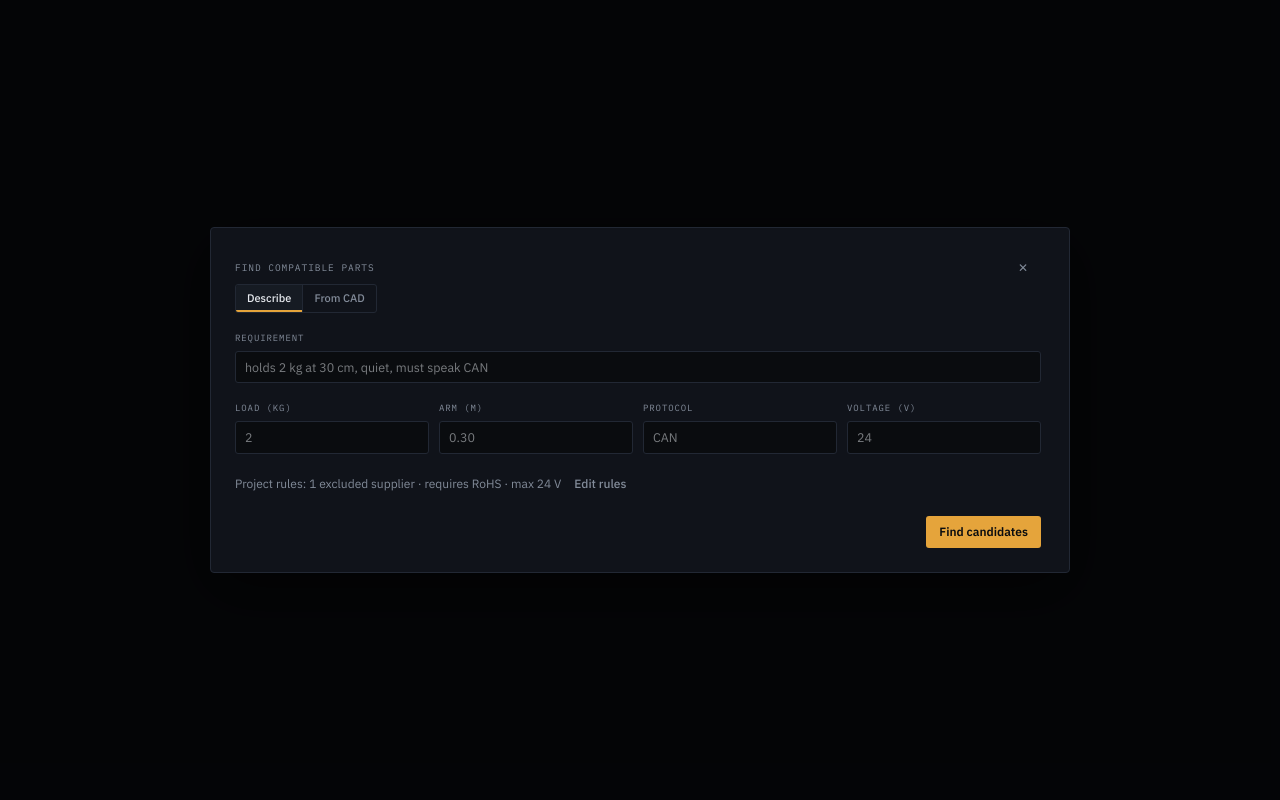
SourcingModal — requirement › refuses an empty requirement with a message and never submits
This screenshot has width=1280, height=800.
Click the button "Find candidates": (984,532) left=926, top=516, right=1041, bottom=548
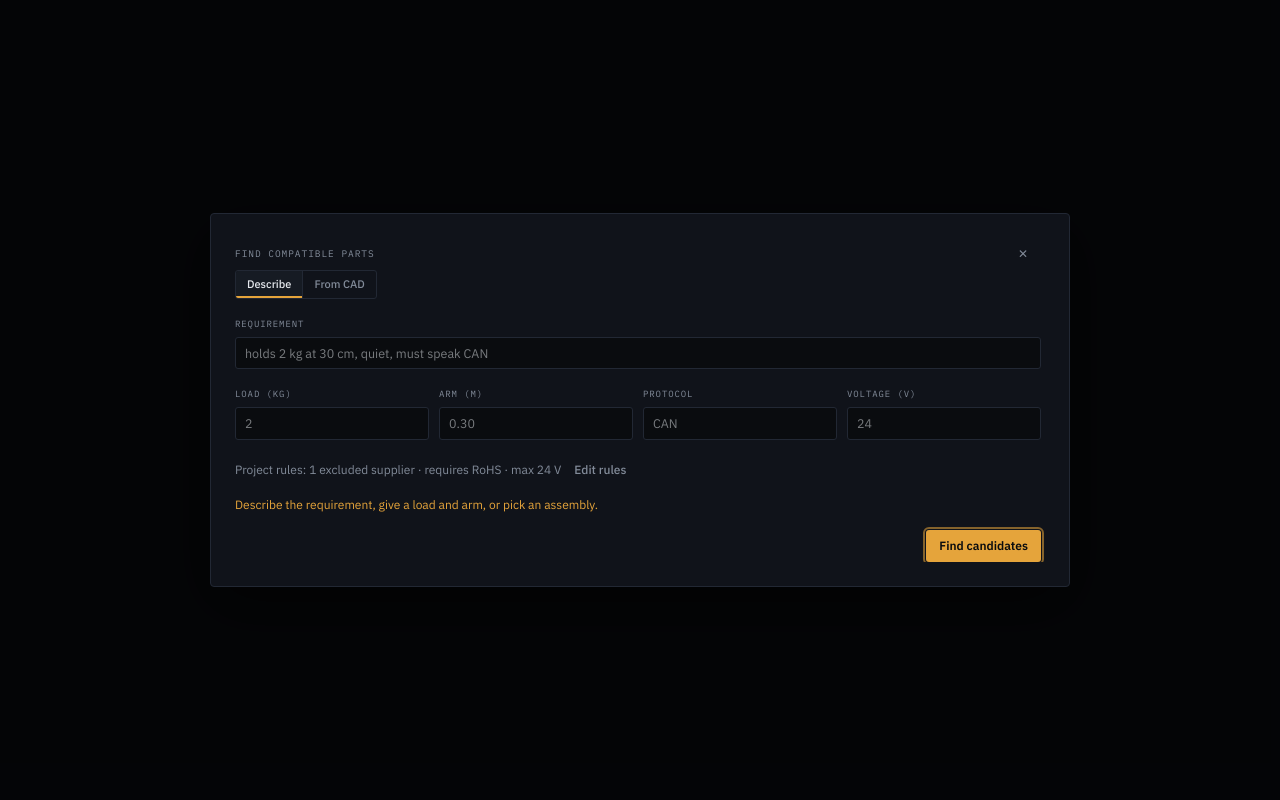
Check: the message shows "Describe the requirement", box left=235, top=497, right=598, bottom=512
